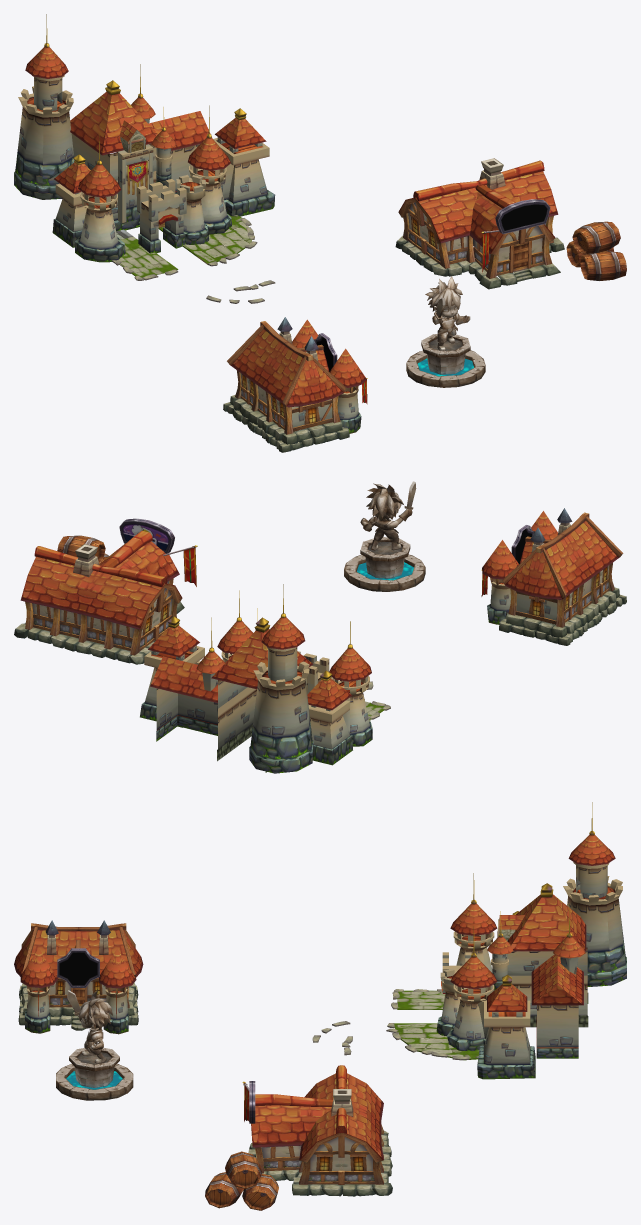
The model's file is majorcity_fangzizu.FBX.
The picture shows the model from 3 angles, top to bottom: view 1: azimuth 30°, elevation 25°; view 2: azimuth 150°, elevation 25°; view 3: azimuth 270°, elevation 25°; orthographic projection.
Parts seen in each view (by area): view 1: majorcity_castle, majorcity_pub, majorcity_store, majorcity_diaoxiang; view 2: majorcity_castle, majorcity_pub, majorcity_store, majorcity_diaoxiang; view 3: majorcity_castle, majorcity_pub, majorcity_store, majorcity_diaoxiang.
Part boxes in pixels (left/top/right/bottom): majorcity_castle: left=14, top=14, right=275, bottom=303; majorcity_pub: left=395, top=158, right=626, bottom=289; majorcity_store: left=223, top=317, right=367, bottom=452; majorcity_diaoxiang: left=406, top=276, right=485, bottom=387; majorcity_castle: left=140, top=584, right=390, bottom=773; majorcity_pub: left=14, top=518, right=197, bottom=664; majorcity_store: left=481, top=508, right=626, bottom=645; majorcity_diaoxiang: left=344, top=481, right=425, bottom=591; majorcity_castle: left=312, top=802, right=626, bottom=1079; majorcity_pub: left=205, top=1065, right=392, bottom=1210; majorcity_store: left=14, top=920, right=143, bottom=1034; majorcity_diaoxiang: left=56, top=990, right=133, bottom=1100.
Bounding box in the file's own units: 846 × 398 × 1007.
